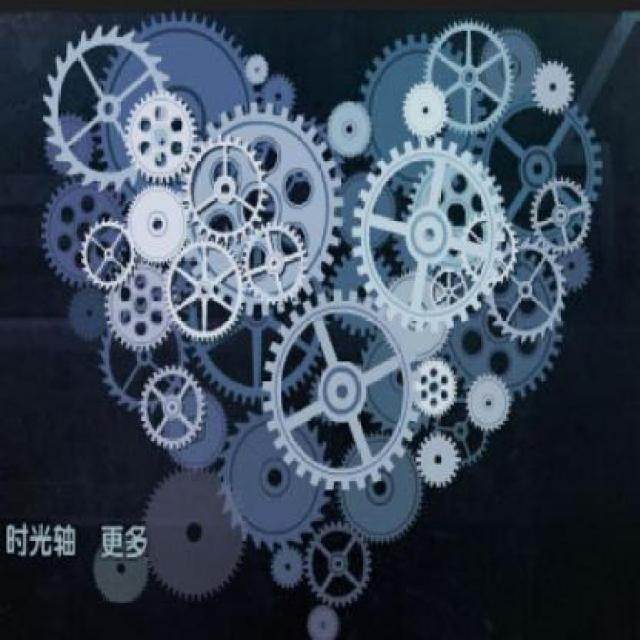Gear: (260, 288, 420, 490), (202, 100, 346, 316), (350, 138, 506, 332), (357, 31, 488, 198), (139, 468, 247, 601), (422, 18, 514, 138), (335, 435, 428, 546), (39, 177, 129, 288), (179, 137, 270, 245), (163, 240, 249, 346), (124, 86, 200, 185), (103, 262, 174, 353), (137, 362, 209, 450), (305, 522, 374, 607), (124, 184, 192, 266), (530, 174, 594, 256), (42, 112, 95, 178), (409, 356, 459, 418), (402, 79, 450, 140), (529, 57, 577, 117), (465, 373, 512, 433), (416, 430, 460, 489), (259, 74, 298, 118), (270, 545, 304, 590)
